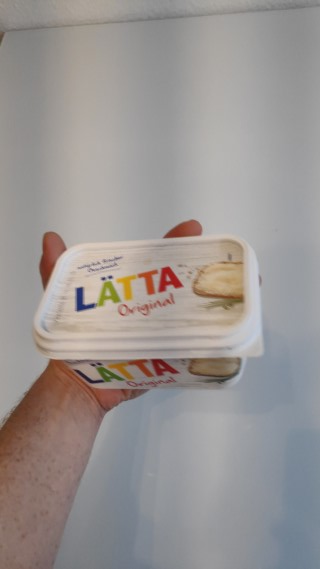laetta: (32, 232, 266, 391)
